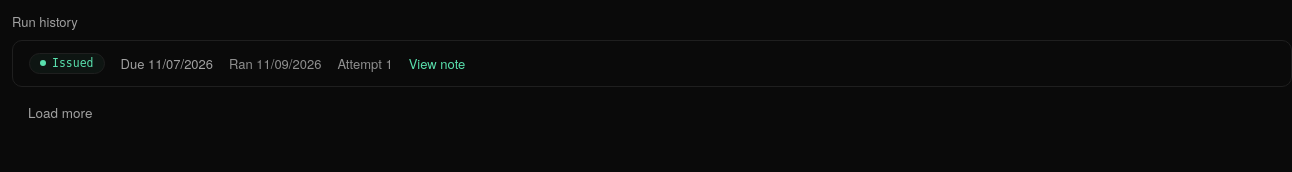
it: ScheduleRuns › loads more when there is another page
Click the button "Load more" at (60, 113), box [12,95,108,131]
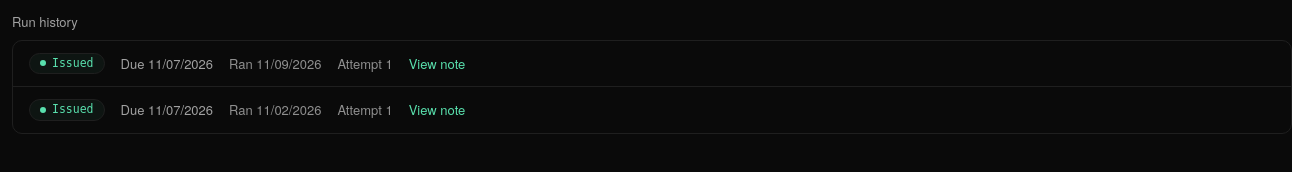
Check: the number of list items with test id "schedule-run" is 2, box [13,40,1291,87]; [29,99,465,120]
